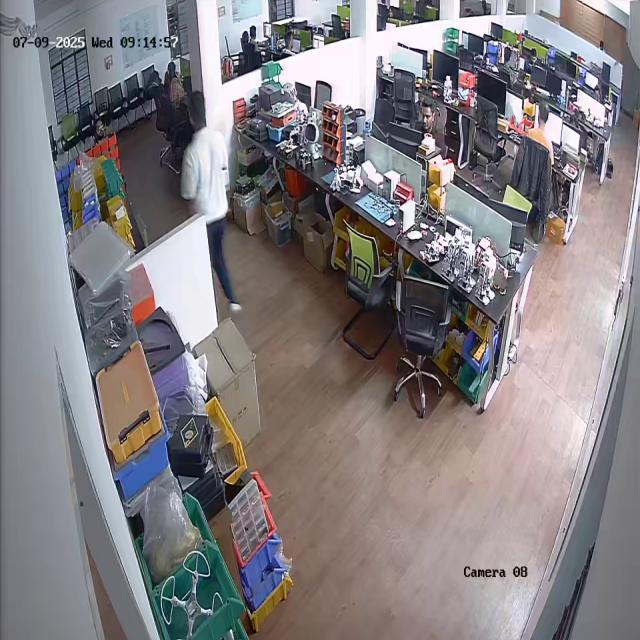person: (174, 91, 242, 311)
